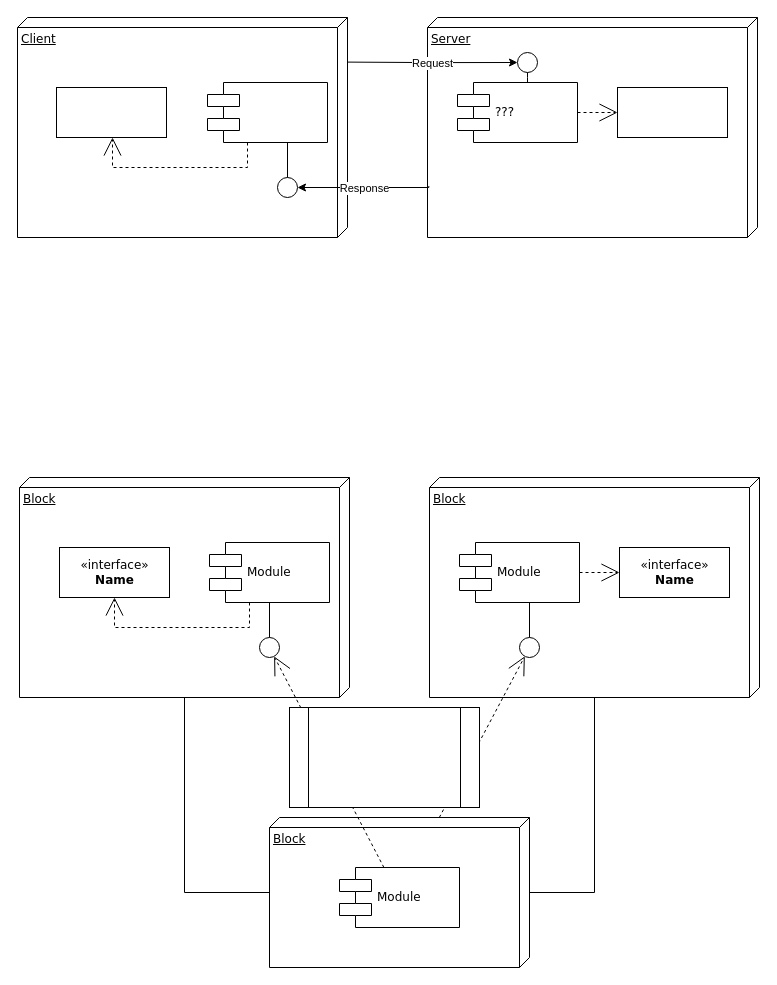
Image size: 777x985. Some labels were removed from this diagram. The box of each missing label's shape, as (x1, y1, x2, y2) in pixels:
Client.exe: (206, 82, 328, 142)
«interface» Client: (56, 86, 166, 138)
«interface» Server: (616, 86, 728, 138)
Это можно убрать: (288, 706, 480, 808)
